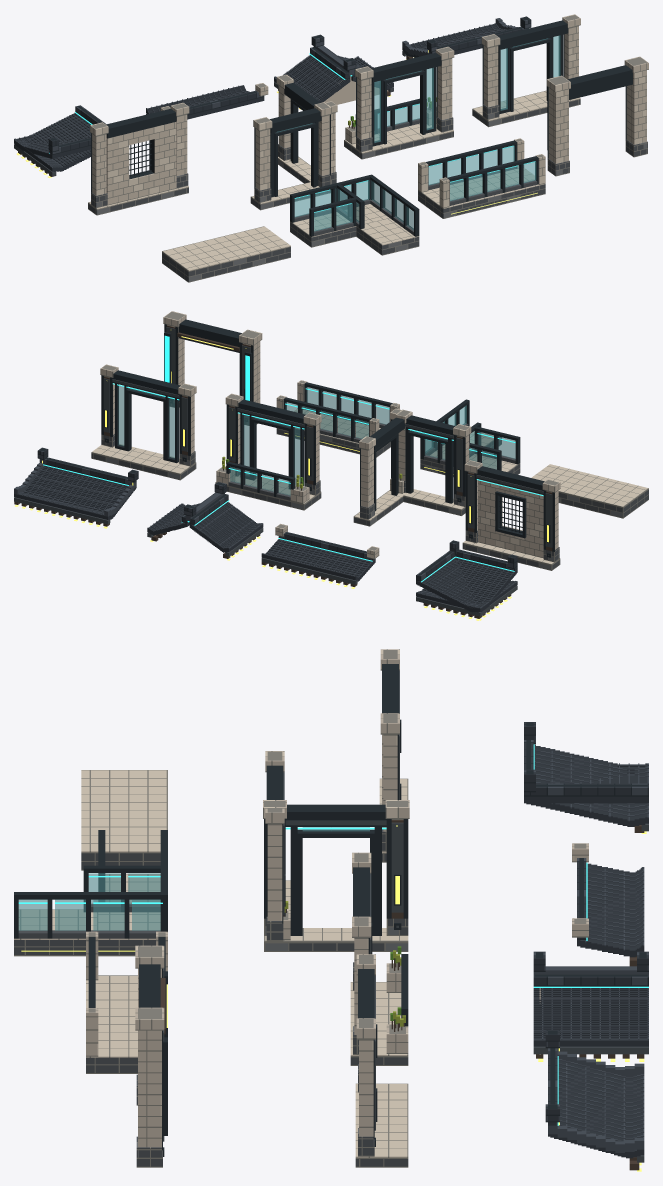
3 views of the same model, one above another, from view 1: azimuth 30°, elevation 25°; view 2: azimuth 150°, elevation 25°; view 3: azimuth 270°, elevation 25° (orthographic). The views are drawn at different scales.
Visible parts, largest first — view 1: A08 实墙开间, A06 上层开间, A11 连廊转角, A07 转角开间, A10 连桥直段, A05 首层开间, A09 门楼框架, A12 台基模块, A04 飞檐转角, A02 山墙端段, A01 屋顶中段, A03 直线檐口; view 2: A08 实墙开间, A06 上层开间, A07 转角开间, A05 首层开间, A01 屋顶中段, A04 飞檐转角, A10 连桥直段, A09 门楼框架, A03 直线檐口, A02 山墙端段, A11 连廊转角, A12 台基模块; view 3: A07 转角开间, A11 连廊转角, A02 山墙端段, A01 屋顶中段, A04 飞檐转角, A12 台基模块, A05 首层开间, A09 门楼框架, A03 直线檐口, A06 上层开间, A10 连桥直段, A08 实墙开间.
Boxes of the visible parts, x1,y1,x2,y2 form: A08 实墙开间: (88, 102, 189, 215); A06 上层开间: (344, 46, 454, 159); A11 连廊转角: (290, 174, 419, 255); A07 转角开间: (250, 74, 337, 210); A10 连桥直段: (418, 138, 545, 218); A05 首层开间: (472, 14, 580, 127); A09 门楼框架: (546, 56, 648, 176); A12 台基模块: (162, 226, 290, 282); A04 飞檐转角: (14, 105, 105, 177); A02 山墙端段: (274, 34, 393, 109); A01 屋顶中段: (402, 16, 531, 59); A03 直线檐口: (146, 83, 268, 119); A08 实墙开间: (462, 460, 560, 570); A06 上层开间: (215, 393, 321, 510); A07 转角开间: (353, 408, 471, 526); A05 首层开间: (91, 364, 196, 480); A01 屋顶中段: (14, 447, 138, 528); A04 飞檐转角: (416, 540, 517, 620); A10 连桥直段: (276, 380, 399, 457); A09 门楼框架: (163, 311, 262, 425); A03 直线檐口: (261, 523, 379, 588); A02 山墙端段: (147, 482, 263, 560); A11 连廊转角: (420, 399, 520, 476); A12 台基模块: (531, 464, 648, 518); A07 转角开间: (263, 751, 409, 951); A11 连廊转角: (14, 830, 167, 956); A02 山墙端段: (533, 951, 648, 1061); A01 屋顶中段: (545, 1030, 644, 1171); A04 飞檐转角: (524, 722, 648, 833); A12 台基模块: (81, 770, 167, 870); A05 首层开间: (355, 954, 408, 1167); A09 门楼框架: (135, 945, 167, 1167); A03 直线檐口: (572, 843, 644, 966); A06 上层开间: (350, 852, 408, 1065); A10 连桥直段: (86, 931, 167, 1073); A08 实墙开间: (379, 649, 408, 862).
Size of the model in its own units: 18.98 by 3.4 by 13.2.
Materials: 15 (15 with a texture image).
